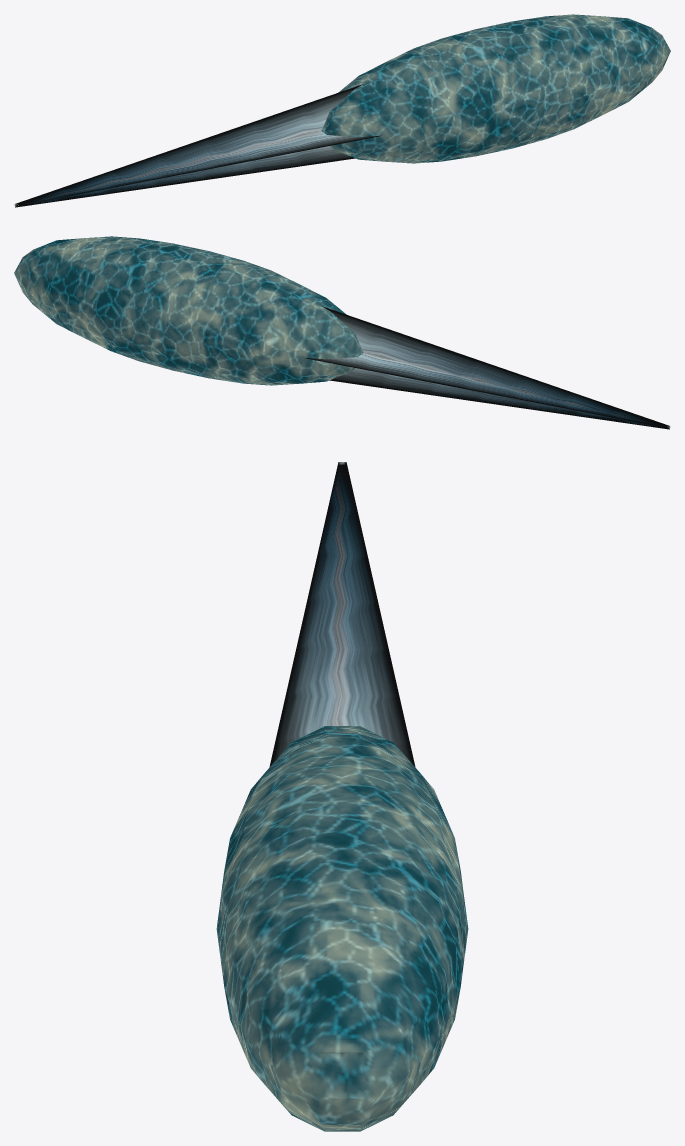
File: shot_basic.glb
3 renders of one model, top to bottom at view 1: azimuth 30°, elevation 25°; view 2: azimuth 150°, elevation 25°; view 3: azimuth 270°, elevation 25°, orthographic. The views are drawn at different scales.
Visible parts, largest first — view 1: basic_shell, basic_trail; view 2: basic_shell, basic_trail; view 3: basic_shell, basic_trail.
Part boxes in pixels (<box>): basic_shell: <box>321,14,670,163</box>; basic_trail: <box>14,84,381,207</box>; basic_shell: <box>14,236,363,385</box>; basic_trail: <box>303,306,670,429</box>; basic_shell: <box>216,726,468,1131</box>; basic_trail: <box>269,462,415,767</box>.
Size of the model in its own units: 9.31 by 1.56 by 1.56.
Materials: 3 (3 with a texture image).
